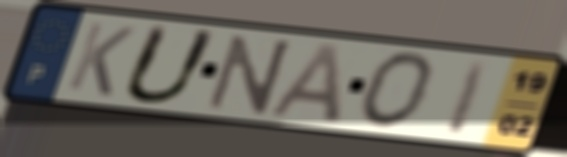A: (263, 41, 348, 126)
I: (440, 57, 495, 138)
K: (62, 19, 139, 99)
N: (203, 32, 297, 116)
O: (356, 49, 441, 132)
U: (117, 21, 224, 107)
